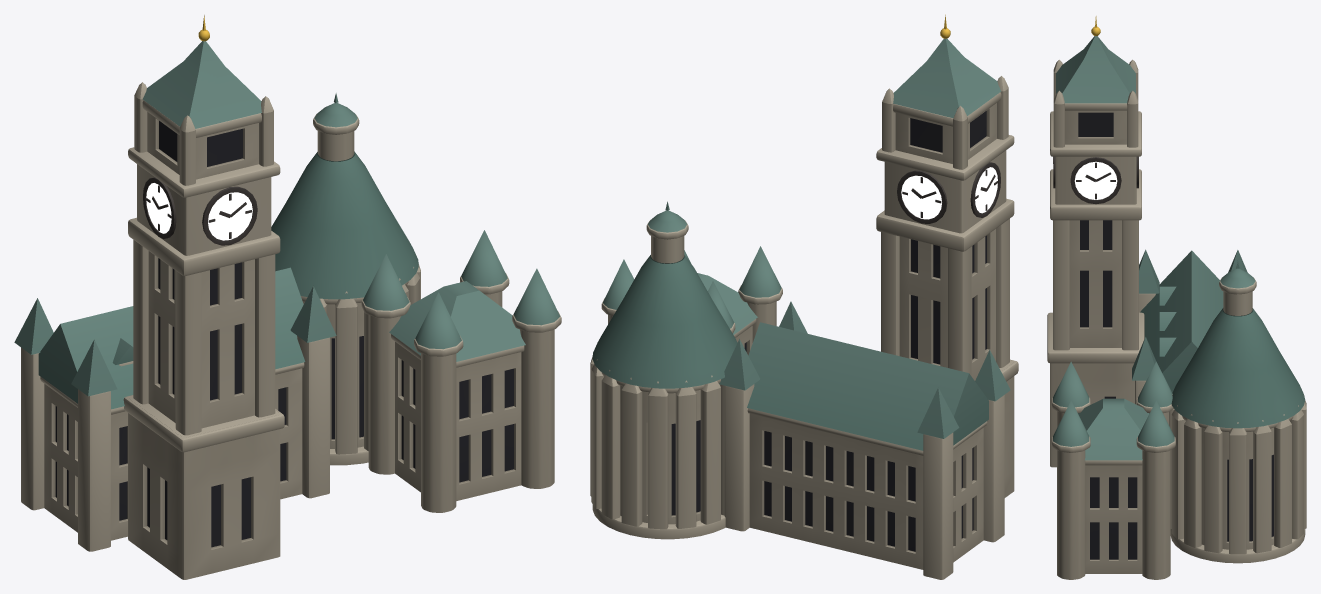
The model's file is landmark_ottawa_solo.glb.
3 views of the same model, side by side, from view 1: azimuth 30°, elevation 25°; view 2: azimuth 150°, elevation 25°; view 3: azimuth 270°, elevation 25° (orthographic). The views are drawn at different scales.
Parts seen in each view (by area): view 1: PeaceTower_Stone, Library_Stone, Library_Roofs, PeaceTower_Roofs, PeaceTower_Clocks; view 2: PeaceTower_Stone, PeaceTower_Roofs, Library_Stone, Library_Roofs, PeaceTower_Clocks; view 3: Library_Stone, PeaceTower_Stone, Library_Roofs, PeaceTower_Roofs, PeaceTower_Clocks.
Part boxes in pixels (bbox=[...]): PeaceTower_Stone: bbox=[21, 82, 329, 579]; Library_Stone: bbox=[301, 114, 561, 512]; Library_Roofs: bbox=[271, 93, 560, 361]; PeaceTower_Roofs: bbox=[14, 41, 336, 409]; PeaceTower_Clocks: bbox=[143, 177, 257, 245]; PeaceTower_Stone: bbox=[724, 76, 1018, 579]; PeaceTower_Roofs: bbox=[719, 38, 1010, 450]; Library_Stone: bbox=[590, 220, 782, 539]; Library_Roofs: bbox=[592, 201, 781, 388]; PeaceTower_Clocks: bbox=[897, 162, 1000, 223]; Library_Stone: bbox=[1051, 277, 1306, 579]; PeaceTower_Stone: bbox=[1047, 59, 1162, 467]; Library_Roofs: bbox=[1053, 260, 1305, 460]; PeaceTower_Roofs: bbox=[1056, 36, 1247, 392]; PeaceTower_Clocks: bbox=[1053, 156, 1138, 204].
Bounding box in the file's own units: 1.15 × 1.35 × 0.7315.
